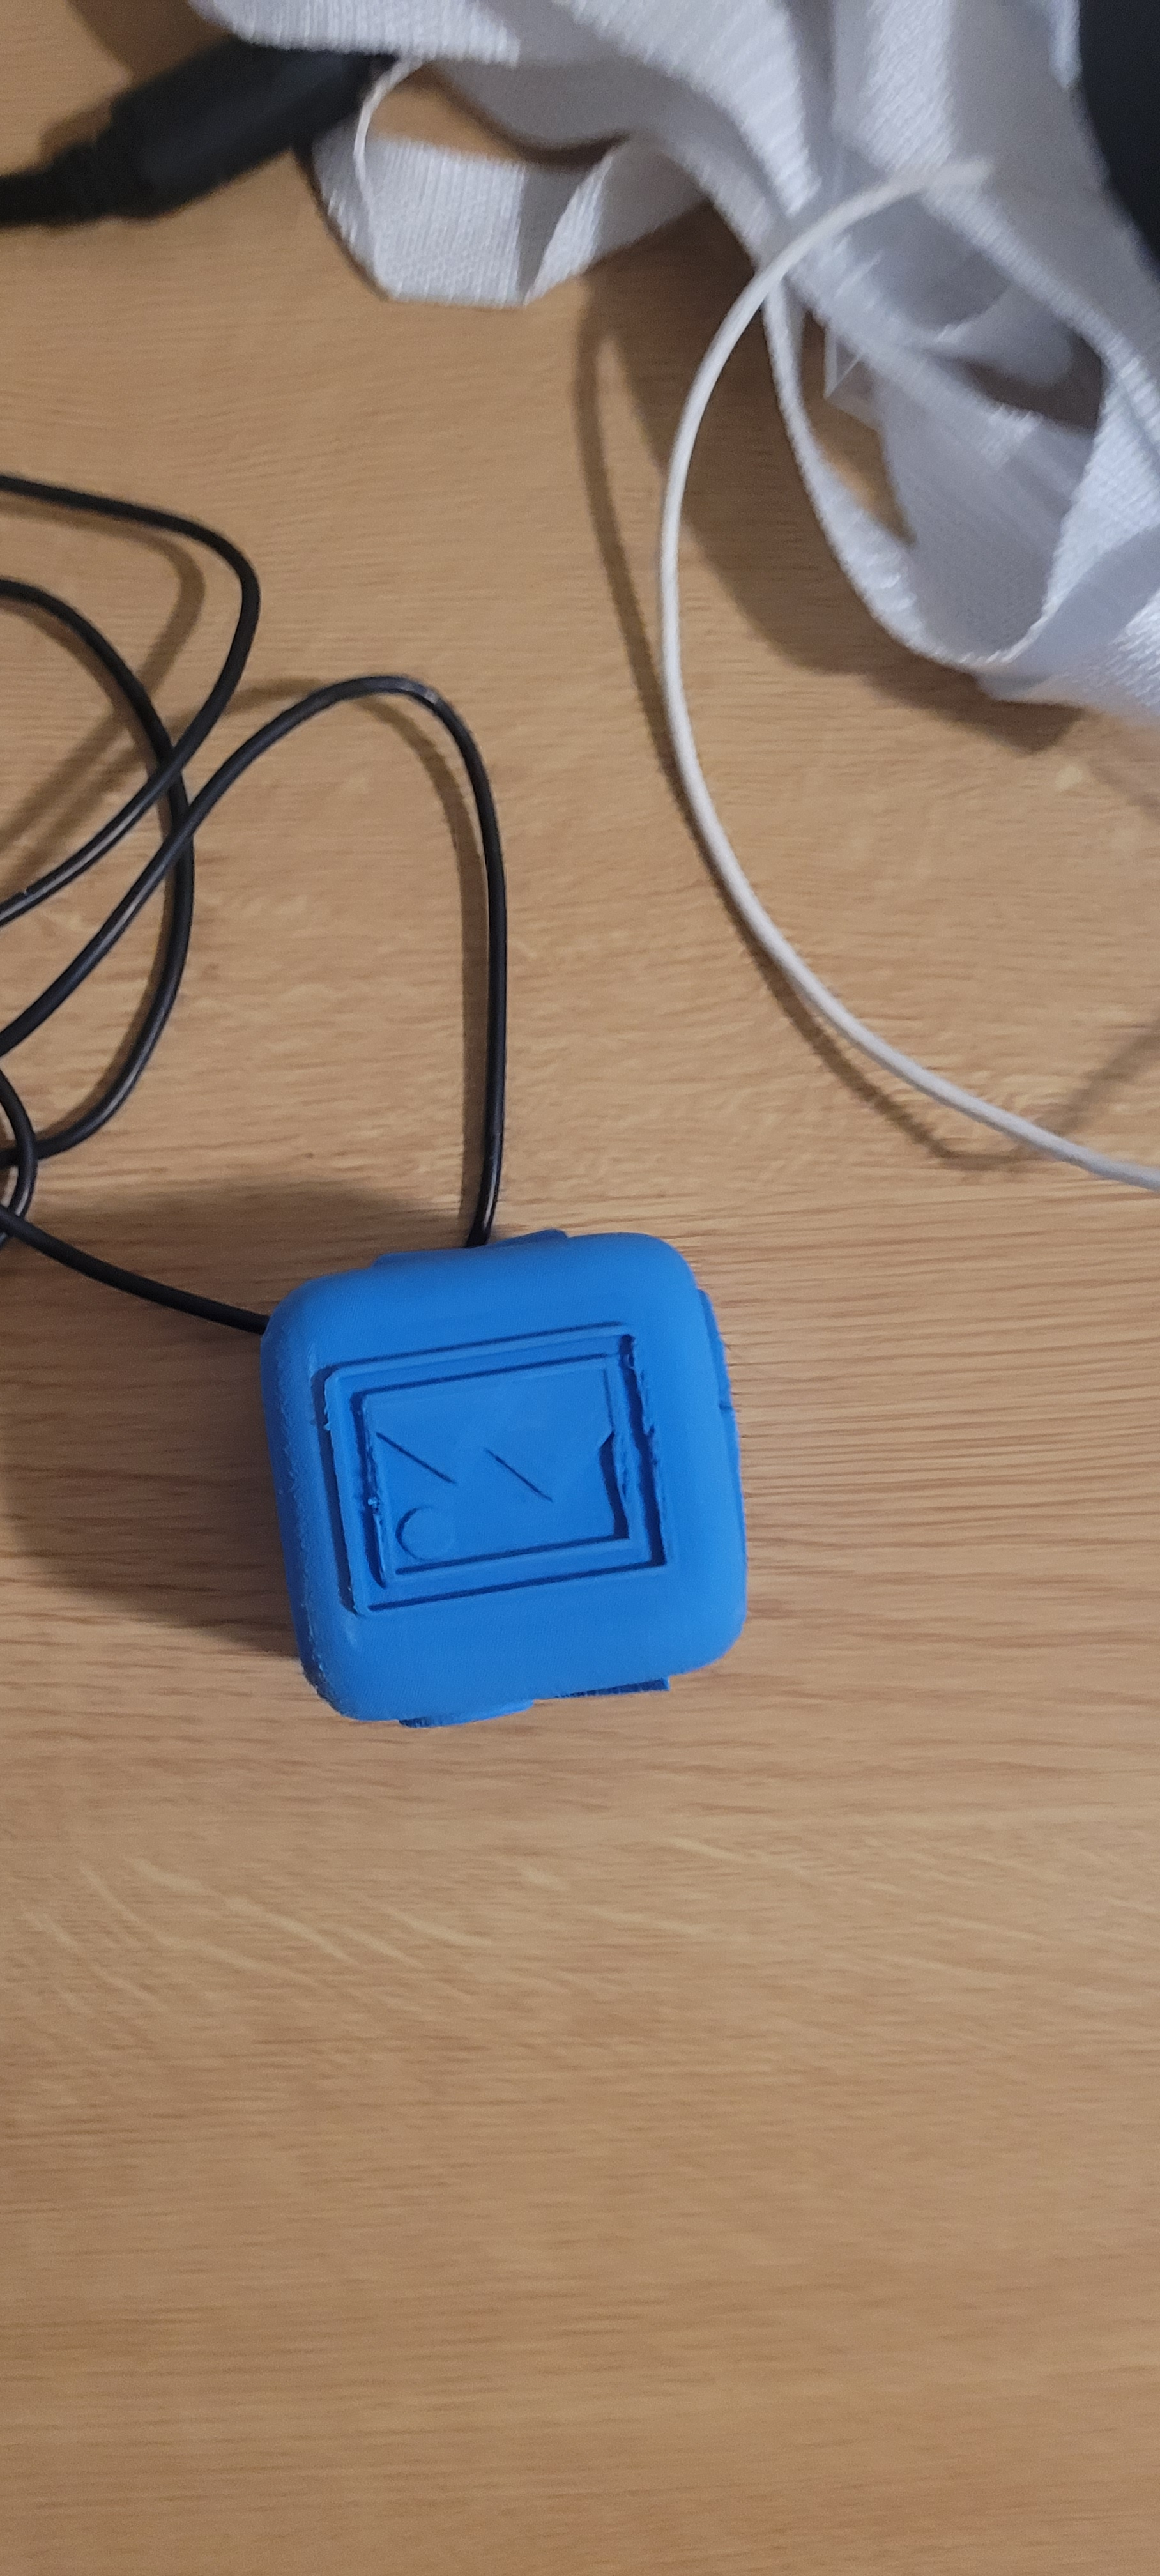Story: (291, 1347, 692, 1626)
